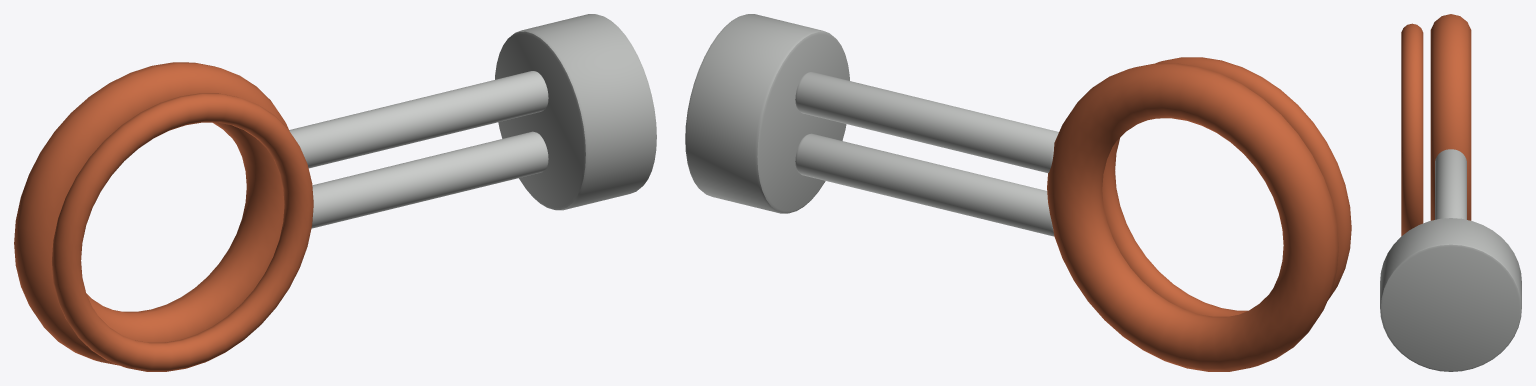
Rendered from induction_heater_coil_head.glb.
The picture shows the model from 3 angles, left to right: view 1: azimuth 30°, elevation 25°; view 2: azimuth 150°, elevation 25°; view 3: azimuth 270°, elevation 25°; orthographic projection. The views are drawn at different scales.
Parts seen in each view (by area): view 1: induction_heater_coil_head; view 2: induction_heater_coil_head; view 3: induction_heater_coil_head.
Part boxes in pixels (x1,y1,x2,y2): induction_heater_coil_head: [14, 14, 656, 371]; induction_heater_coil_head: [685, 14, 1351, 371]; induction_heater_coil_head: [1380, 14, 1521, 371].
Bounding box in the file's own units: 0.1635 × 0.077 × 0.044.
